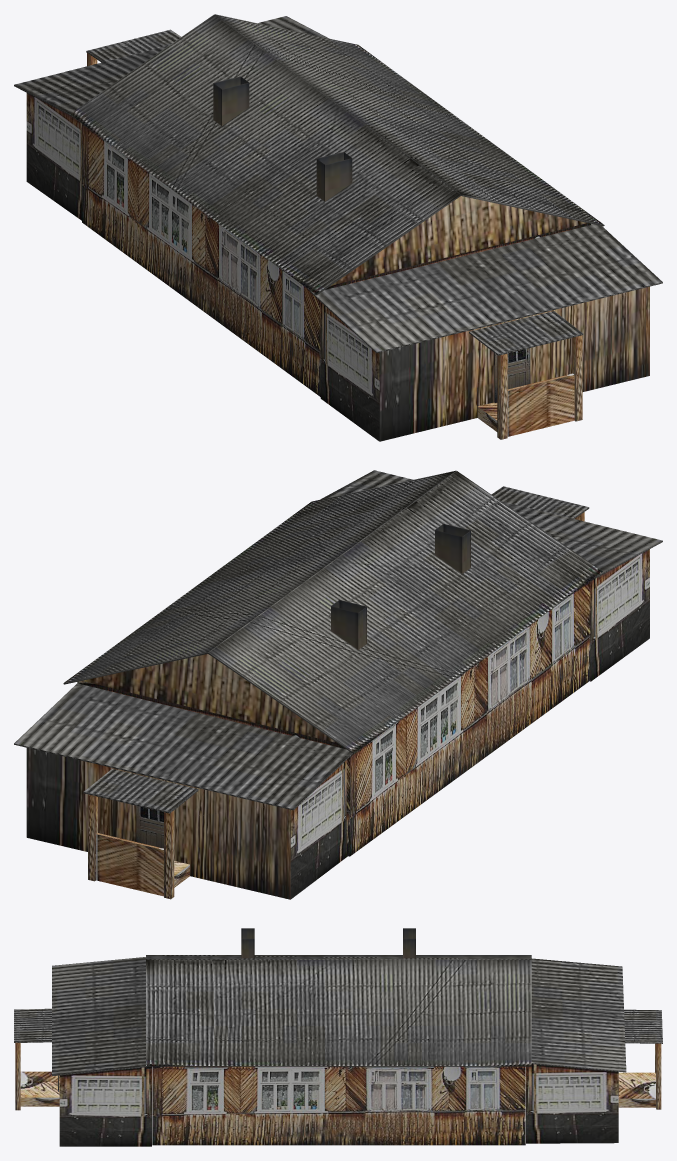
Rendered from d_dom_1et_46.FBX.
The picture shows the model from 3 angles, top to bottom: view 1: azimuth 30°, elevation 25°; view 2: azimuth 150°, elevation 25°; view 3: azimuth 270°, elevation 25°; orthographic projection. The views are drawn at different scales.
Visible parts, largest first — view 1: d_dom_1et_46; view 2: d_dom_1et_46; view 3: d_dom_1et_46.
Part boxes in pixels (<box>): d_dom_1et_46: <box>14,14,662,441</box>; d_dom_1et_46: <box>14,470,662,899</box>; d_dom_1et_46: <box>14,928,662,1146</box>.
Size of the model in its own units: 10.99 by 27.32 by 6.44.
